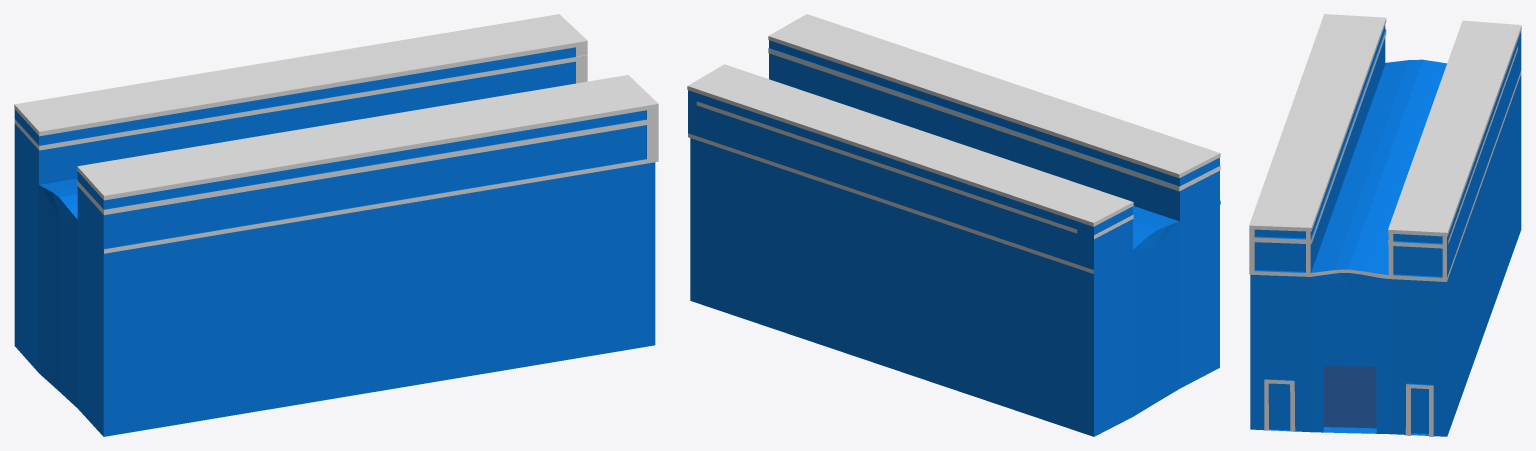
Rendered from Building2.fbx.
The picture shows the model from 3 angles, left to right: view 1: azimuth 30°, elevation 25°; view 2: azimuth 150°, elevation 25°; view 3: azimuth 270°, elevation 25°; orthographic projection. The views are drawn at different scales.
Parts seen in each view (by area): view 1: Cube.001; view 2: Cube.001; view 3: Cube.001.
Boxes of the visible parts, x1,y1,x2,y2 form: Cube.001: [14, 14, 658, 436]; Cube.001: [687, 14, 1220, 436]; Cube.001: [1249, 14, 1521, 436].
Bounding box in the file's own units: 439 × 192 × 231.
